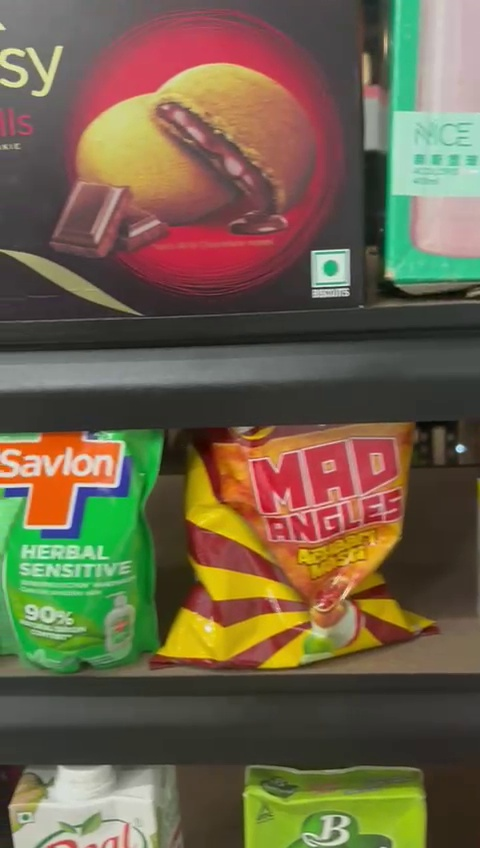Bingo Mad Angles: (175, 424, 420, 668)
